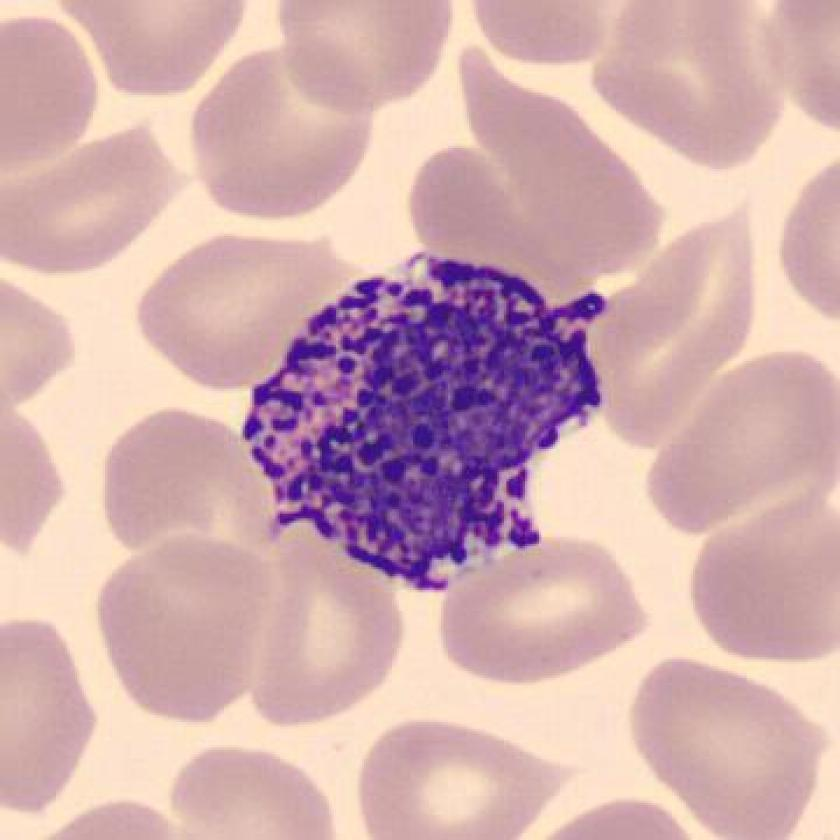basophil: (232, 249, 619, 591)
